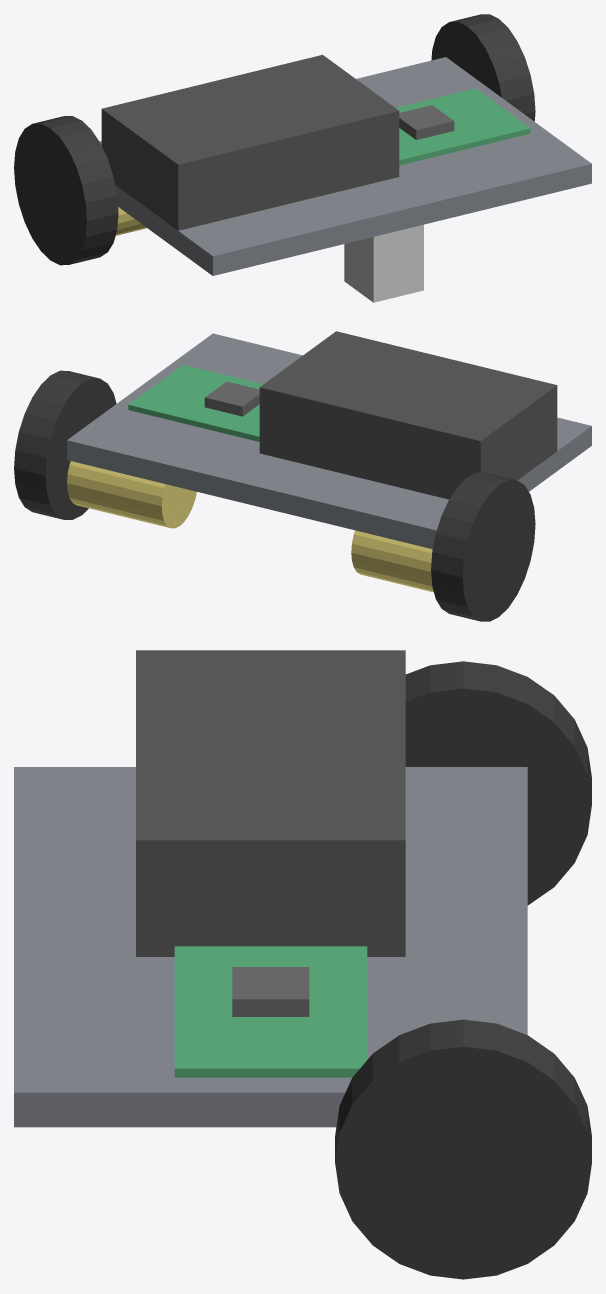
The model's file is sample-rover.glb.
The picture shows the model from 3 angles, top to bottom: view 1: azimuth 30°, elevation 25°; view 2: azimuth 150°, elevation 25°; view 3: azimuth 270°, elevation 25°; orthographic projection. The views are drawn at different scales.
Parts seen in each view (by area): view 1: 2×18650 电池盒, 底板, 左轮, 右轮, PCB, 万向轮, 主控芯片, 左电机; view 2: 2×18650 电池盒, 底板, 左轮, 右轮, 右电机, PCB, 左电机, 主控芯片; view 3: 底板, 2×18650 电池盒, 右轮, 左轮, PCB, 主控芯片.
Part boxes in pixels (x1=…): 2×18650 电池盒: x1=101, y1=54, x2=399, y2=230; 底板: x1=99, y1=57, x2=591, y2=275; 左轮: x1=14, y1=116, x2=118, y2=265; 右轮: x1=431, y1=14, x2=535, y2=121; PCB: x1=396, y1=88, x2=530, y2=165; 万向轮: x1=344, y1=224, x2=423, y2=302; 主控芯片: x1=399, y1=105, x2=454, y2=139; 左电机: x1=115, y1=207, x2=146, y2=235; 2×18650 电池盒: x1=259, y1=331, x2=557, y2=499; 底板: x1=67, y1=333, x2=591, y2=549; 左轮: x1=431, y1=472, x2=535, y2=621; 右轮: x1=14, y1=370, x2=116, y2=519; 右电机: x1=67, y1=461, x2=196, y2=528; PCB: x1=128, y1=364, x2=262, y2=441; 左电机: x1=351, y1=530, x2=433, y2=592; 主控芯片: x1=204, y1=381, x2=259, y2=416; 底板: x1=14, y1=767, x2=527, y2=1127; 2×18650 电池盒: x1=136, y1=650, x2=405, y2=956; 右轮: x1=335, y1=1019, x2=591, y2=1279; 左轮: x1=405, y1=661, x2=591, y2=905; PCB: x1=174, y1=946, x2=367, y2=1077; 主控芯片: x1=232, y1=967, x2=309, y2=1016.
Size of the model in its own units: 0.142 by 0.047 by 0.09.
